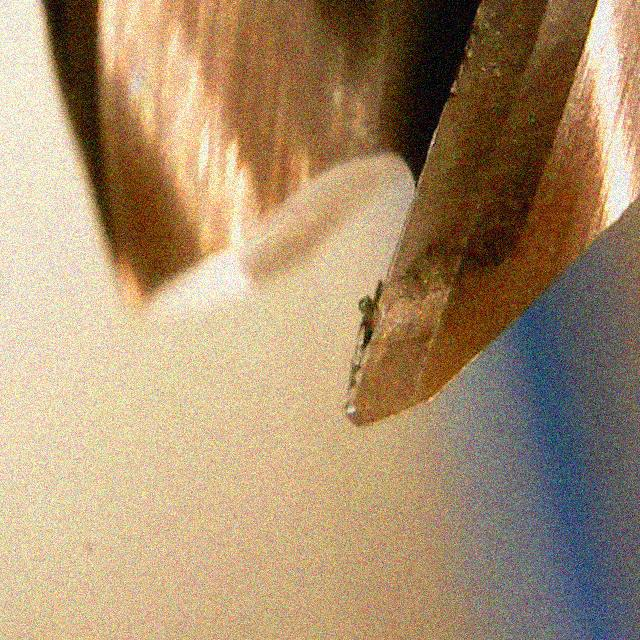Tool-wear-class-1: (298, 196, 511, 442)
